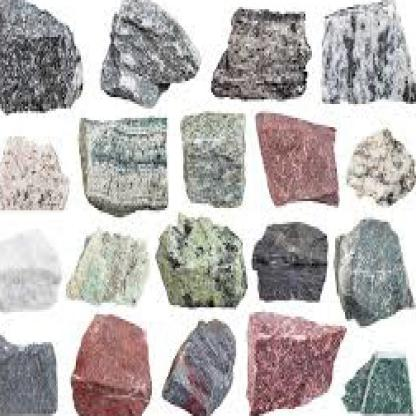Metamorphic_Quartize: (316, 0, 414, 116), (99, 0, 205, 107), (0, 0, 88, 114), (214, 0, 309, 100), (246, 321, 340, 414), (332, 222, 414, 326), (154, 217, 242, 312), (79, 118, 167, 208), (254, 116, 342, 204), (68, 224, 150, 312), (250, 224, 334, 308), (80, 324, 158, 414), (178, 113, 244, 208), (0, 330, 71, 414), (0, 132, 71, 215), (168, 324, 231, 414), (0, 233, 63, 316), (352, 122, 414, 206), (352, 342, 414, 414)
